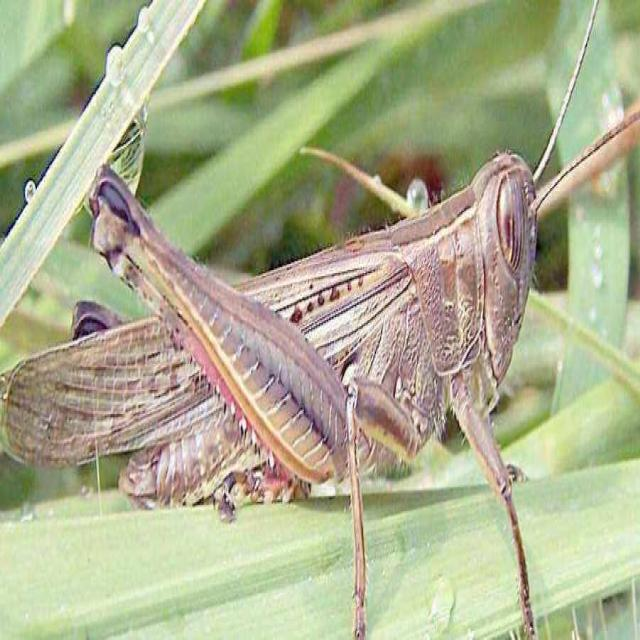ZhaMeng: (13, 130, 555, 584)
